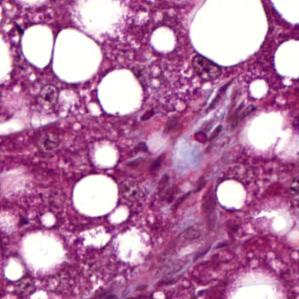steatosis: (97, 69, 146, 114), (74, 175, 119, 215)
